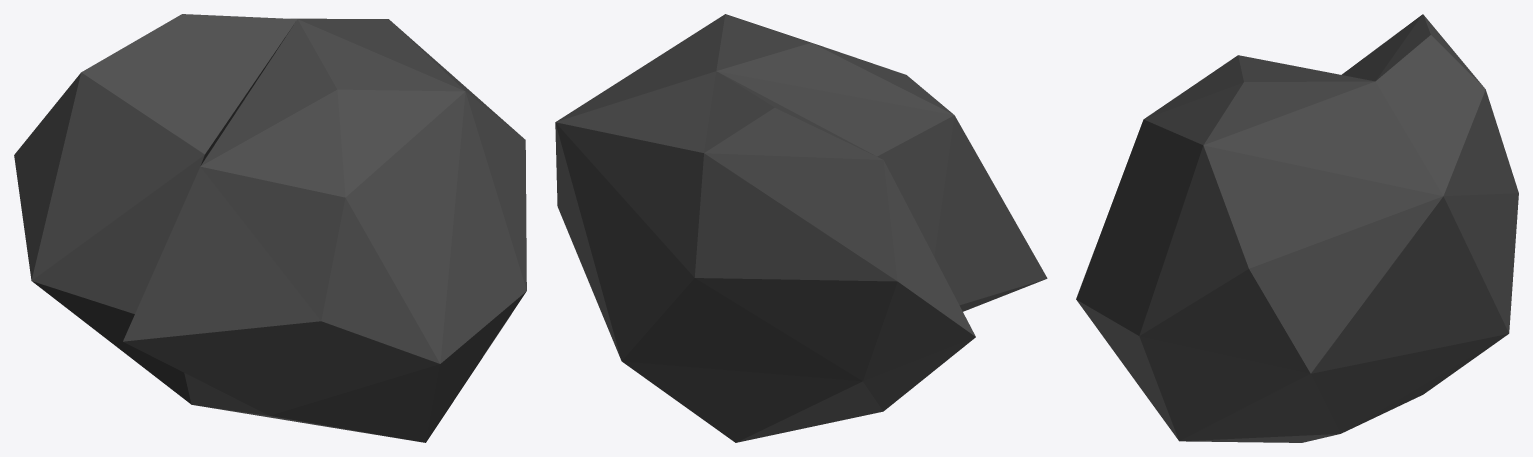
The model's file is Sea_Rock3.fbx.
The picture shows the model from 3 angles, left to right: view 1: azimuth 30°, elevation 25°; view 2: azimuth 150°, elevation 25°; view 3: azimuth 270°, elevation 25°; orthographic projection. The views are drawn at different scales.
Visible parts, largest first — view 1: Icosphere.009; view 2: Icosphere.009; view 3: Icosphere.009.
Boxes of the visible parts, left/top/right/bottom form: Icosphere.009: left=14, top=14, right=526, bottom=442; Icosphere.009: left=555, top=14, right=1047, bottom=442; Icosphere.009: left=1076, top=14, right=1518, bottom=442.
Size of the model in its own units: 1018 by 810 by 882.
